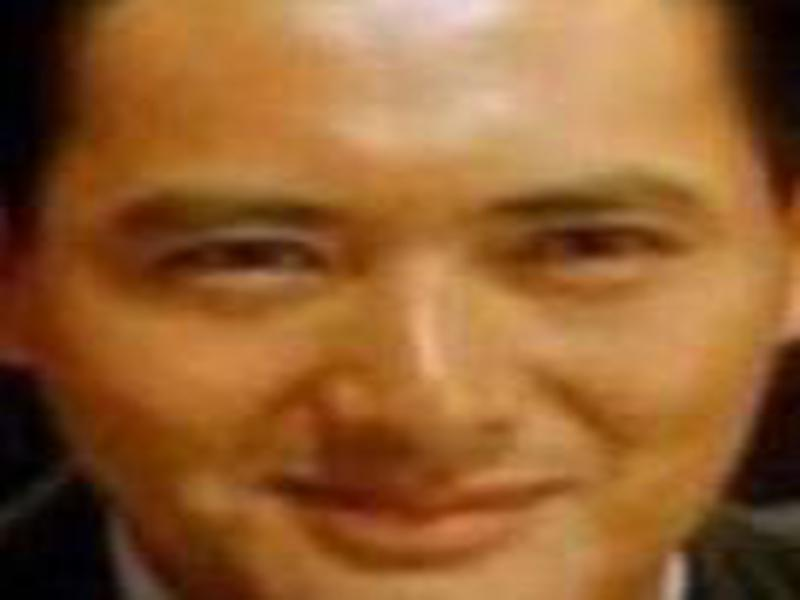without_mask: (38, 14, 783, 595)
